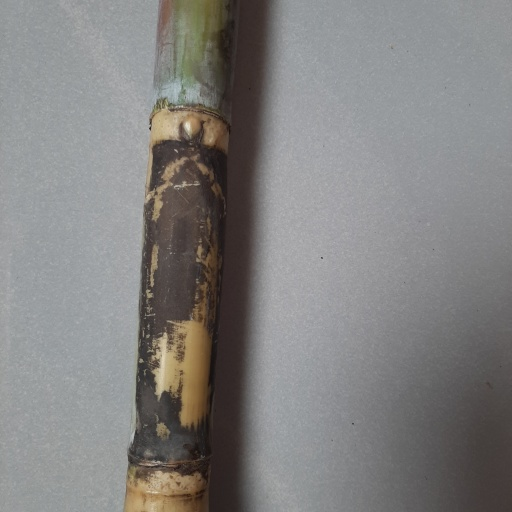Bud: (180, 114, 204, 146)
